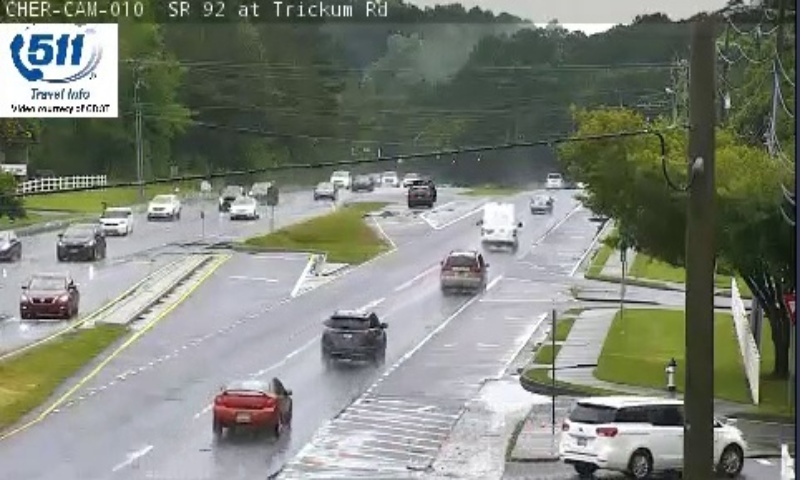car: (212, 377, 288, 429), (321, 312, 386, 359), (441, 250, 486, 292), (529, 194, 554, 214)
van: (481, 202, 514, 247)
